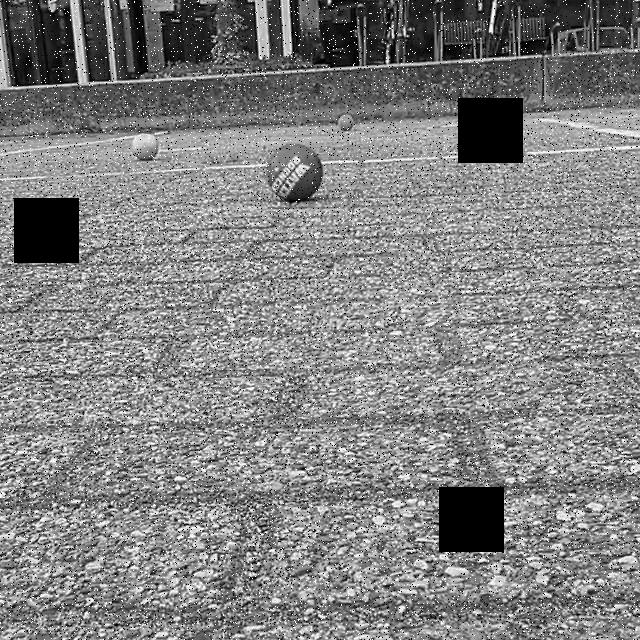ball: (130, 130, 161, 161), (336, 113, 356, 131)
